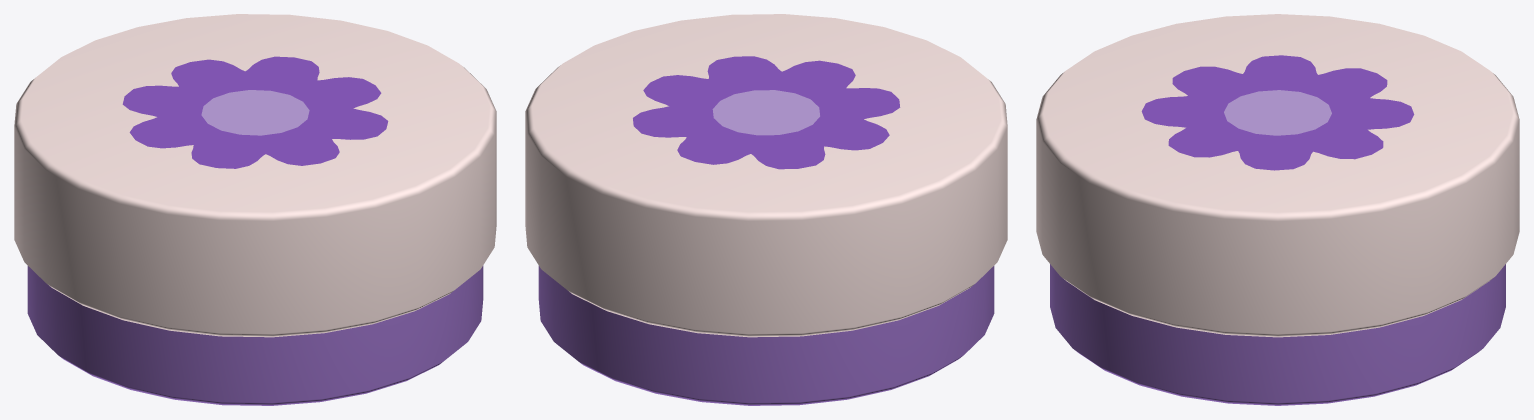
The model's file is Store_17_Cream_4.glb.
The picture shows the model from 3 angles, left to right: view 1: azimuth 30°, elevation 25°; view 2: azimuth 150°, elevation 25°; view 3: azimuth 270°, elevation 25°; orthographic projection.
Visible parts, largest first — view 1: Store_17_Cream_4; view 2: Store_17_Cream_4; view 3: Store_17_Cream_4.
Part boxes in pixels (bbox=[...]): Store_17_Cream_4: bbox=[14, 14, 496, 405]; Store_17_Cream_4: bbox=[525, 14, 1007, 405]; Store_17_Cream_4: bbox=[1036, 14, 1519, 405].
Size of the model in its own units: 0.7873 by 0.3586 by 0.7873.
1 material, 1 textured.
